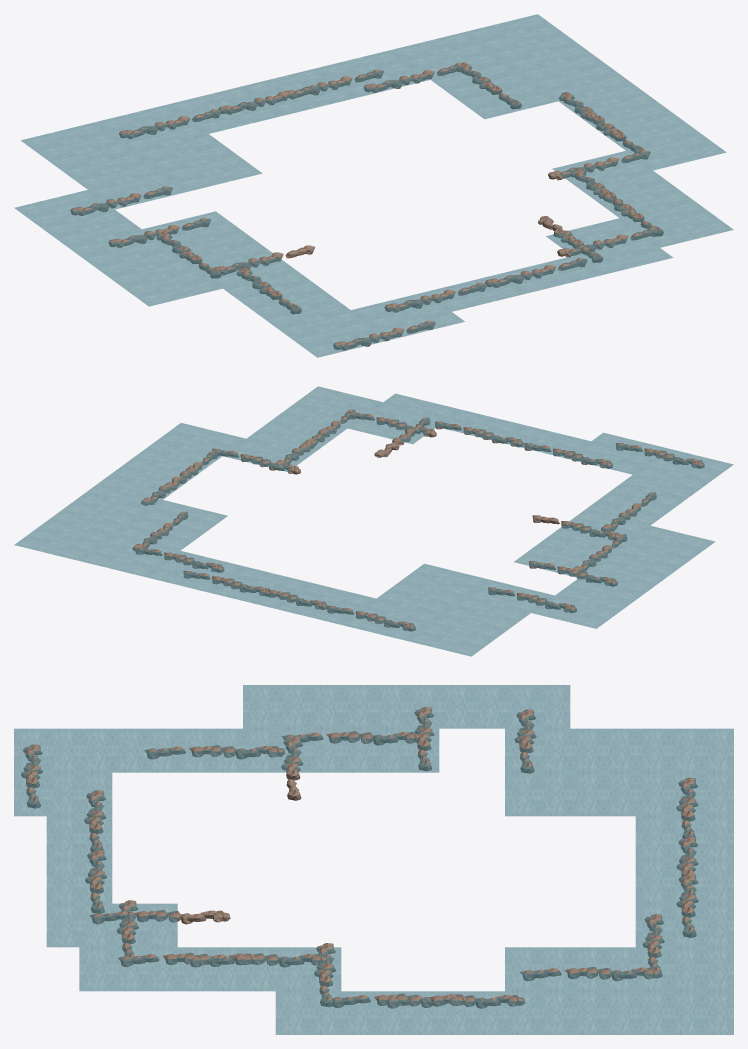
File: dongjing_shui.fbx
3 views of the same model, one above another, from view 1: azimuth 30°, elevation 25°; view 2: azimuth 150°, elevation 25°; view 3: azimuth 270°, elevation 25° (orthographic). The views are drawn at different scales.
Visible parts, largest first — view 1: hengbing_1.002, hengbing_1.006, hengbing_1.022, hengbing_1.009, hengbing_1.003, hengbing_1.010, hengbing_1.007, hengbing_1.008, hengbing_1.013, hengbing_1.004, hengbing_1.005, hengbing_1.019 (+6 smaller); view 2: hengbing_1.002, hengbing_1.022, hengbing_1.003, hengbing_1.006, hengbing_1.008, hengbing_1.010, hengbing_1.013, hengbing_1.009, hengbing_1.007, hengbing_1.005, hengbing_1.004, hengbing_1.011 (+5 smaller); view 3: hengbing_1.002, hengbing_1.019, hengbing_1.020, hengbing_1.014, hengbing_1.021, hengbing_1.018, hengbing_1.015, hengbing_1.017, hengbing_1.016, hengbing_1.007, hengbing_1.003, hengbing_1.006 (+9 smaller).
Boxes of the visible parts, x1,y1,x2,y2 form: hengbing_1.002: (14,14,733,357); hengbing_1.006: (333,320,435,350); hengbing_1.022: (384,282,486,312); hengbing_1.009: (70,186,172,215); hengbing_1.003: (485,258,587,287); hengbing_1.010: (119,109,221,138); hengbing_1.007: (213,245,315,274); hengbing_1.008: (108,218,210,247); hengbing_1.013: (364,63,462,92); hengbing_1.004: (557,227,656,257); hengbing_1.005: (548,150,650,180); hengbing_1.019: (538,216,602,262); hengbing_1.002: (14,386,733,656); hengbing_1.022: (524,443,612,468); hengbing_1.003: (435,421,523,447); hengbing_1.006: (616,443,704,468); hengbing_1.008: (529,561,617,586); hengbing_1.010: (327,606,415,631); hengbing_1.013: (136,547,223,572); hengbing_1.009: (488,587,576,612); hengbing_1.007: (532,515,619,540); hengbing_1.005: (212,449,300,474); hengbing_1.004: (349,412,436,437); hengbing_1.011: (239,584,327,609); hengbing_1.002: (14,685,733,1034); hengbing_1.019: (89,910,230,924); hengbing_1.020: (144,745,284,758); hengbing_1.014: (520,967,660,980); hengbing_1.021: (282,731,420,745); hengbing_1.018: (118,953,256,966); hengbing_1.015: (387,994,524,1008); hengbing_1.017: (190,953,326,966); hengbing_1.016: (332,994,465,1007); hengbing_1.007: (281,736,303,800); hengbing_1.003: (85,850,106,913); hengbing_1.006: (21,744,42,808).
Bounding box in the file's own units: 25289 × 361 × 22000.
